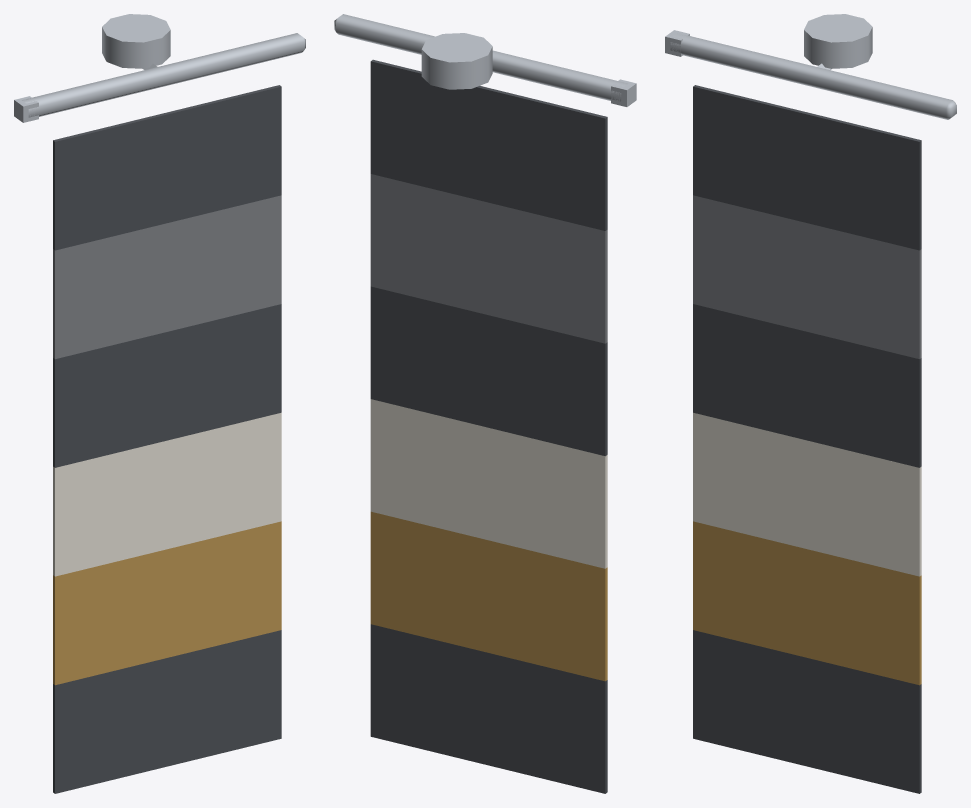
Rendered from banner_arm.glb.
3 renders of one model, left to right at view 1: azimuth 30°, elevation 25°; view 2: azimuth 150°, elevation 25°; view 3: azimuth 330°, elevation 25°, orthographic. The views are drawn at different scales.
Parts seen in each view (by area): view 1: banner_arm; view 2: banner_arm; view 3: banner_arm.
Boxes of the visible parts, x1,y1,x2,y2 form: banner_arm: (14,14,305,793); banner_arm: (334,14,636,793); banner_arm: (665,14,956,793).
Size of the model in its own units: 0.905 by 2.17 by 0.2664.
